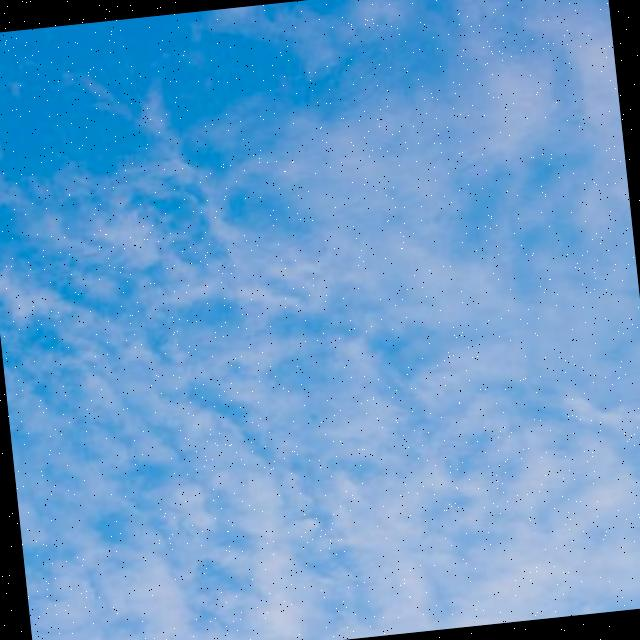Cc: (1, 47, 640, 640)
